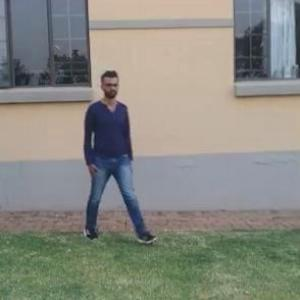follow: (82, 69, 132, 241)
